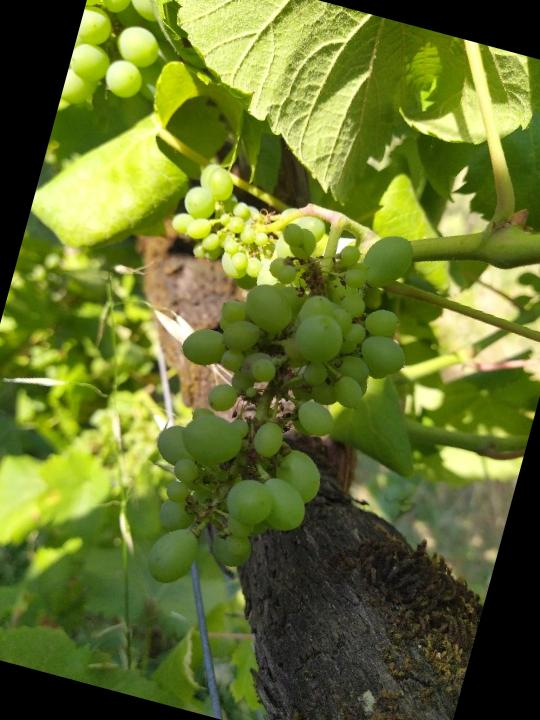grape: (113, 173, 448, 633), (157, 153, 286, 287)
